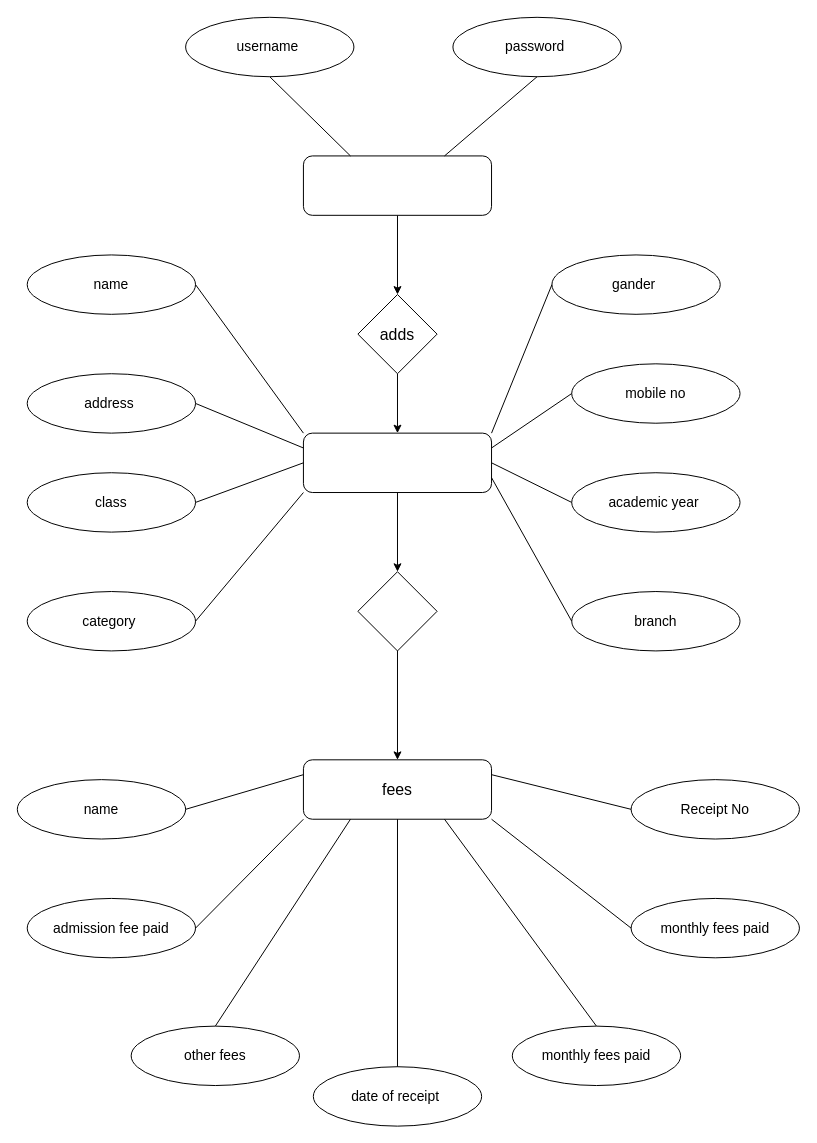
The diagram is 817 pixels wide and 1143 high, and some of its shapes have lost their labels. The centre of each missing label's shape, as x and y in pixels:
administrator: the point at 397,185
pays: the point at 397,611
student: the point at 397,462
